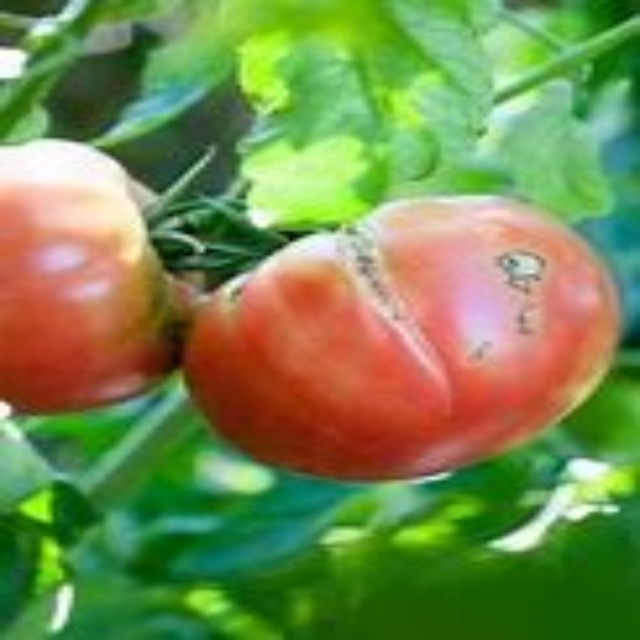tomato: (185, 199, 621, 483), (4, 134, 208, 431)
